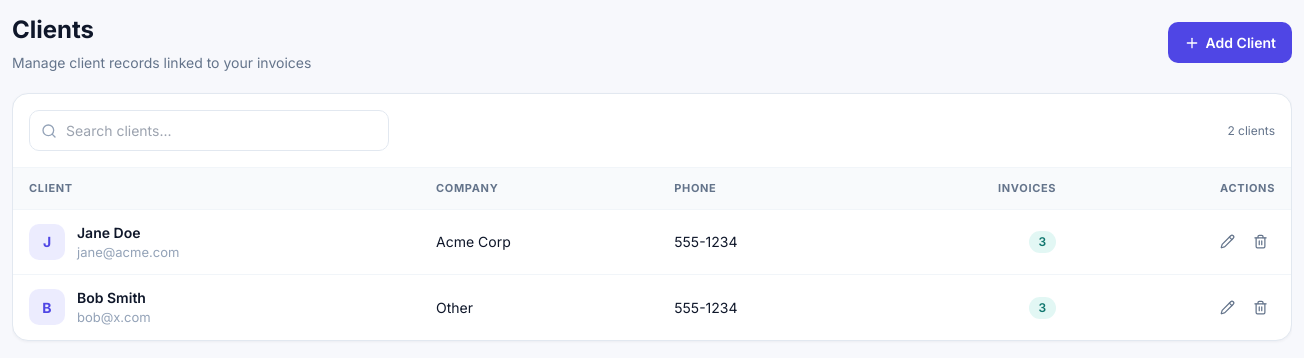
Clients page › filters by search
This screenshot has width=1304, height=358.
Check: the text "Jane Doe" is shown, box [77,224,140,240]
Step 1. Type "bob" into the field labelled "Search clients" → (209, 130), box [29,110,389,151]
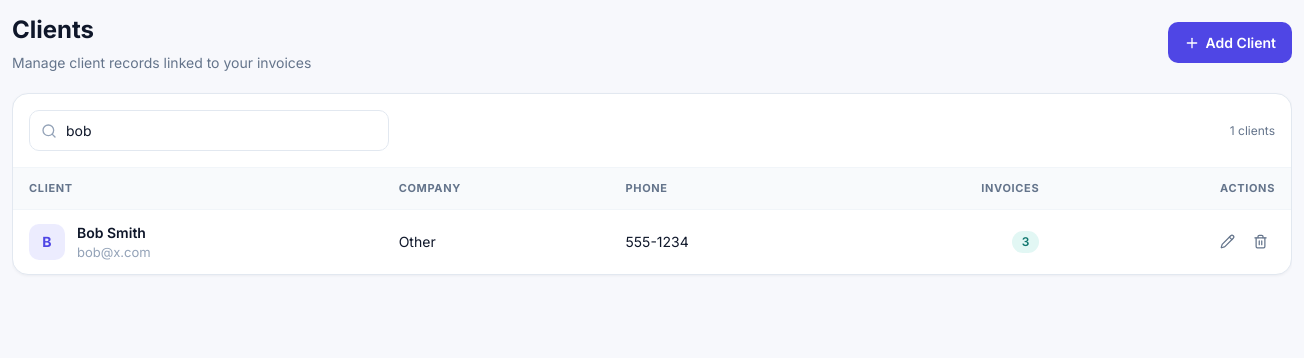
Check: the text "Bob Smith" is shown, box [77,222,151,242]
Check: the text "Jane Doe" is gone
